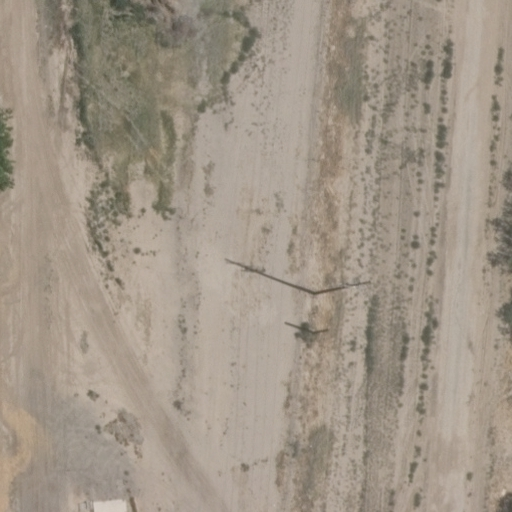DT: (307, 274, 376, 301), (306, 320, 332, 340)
